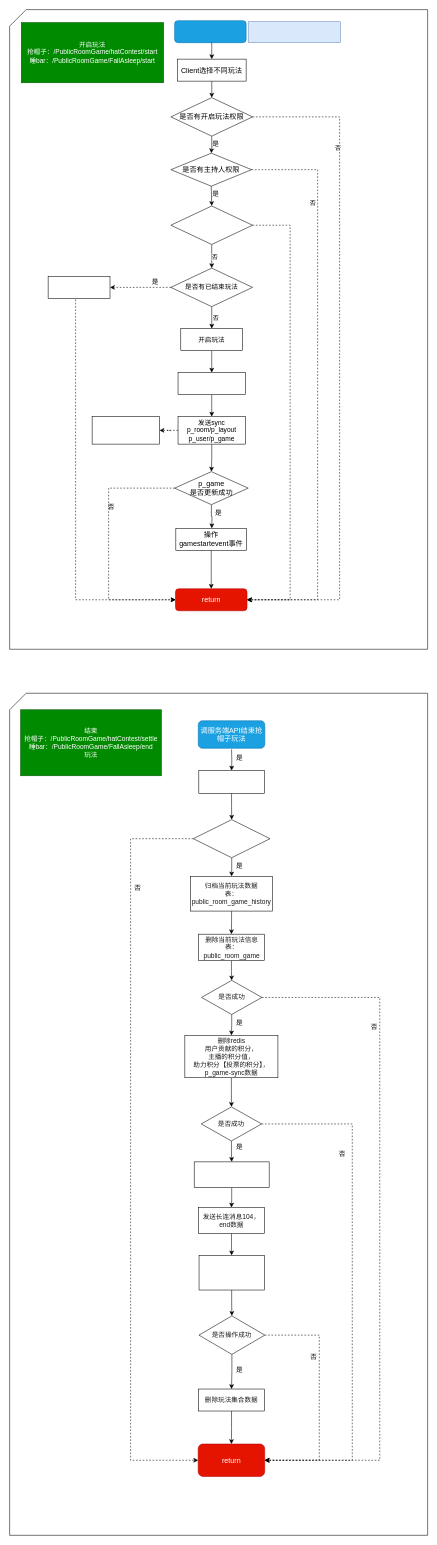
Image size: 437x1545. Some labels were removed from this diagram. Here are the shapes that lost their labels. From the top down, the centre of each, then its label:
[210,31]: 从服务端API获取房间内玩法信息
[294,32]: 获取玩法信息接口：publicRoomV2/available
[211,224]: 是否有进行中玩法
[79,287]: 结束玩法
[211,383]: 切换玩法布局
[126,430]: 发送玩法 104长连message
[231,781]: 获取玩法信息
[231,838]: 玩法是否存在
[231,1174]: 操作 GameEndedEvent事件
[231,1272]: 恢复玩法前sync数据 p_room p_user p_layout
